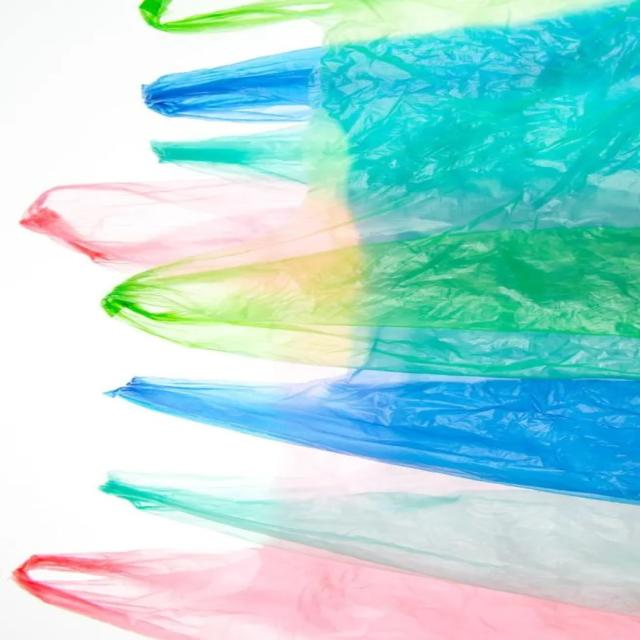Single-layer Plastic: (144, 1, 638, 242), (104, 228, 638, 378), (102, 472, 638, 614), (112, 371, 640, 502), (14, 548, 638, 640), (20, 179, 306, 269), (140, 0, 622, 43)
